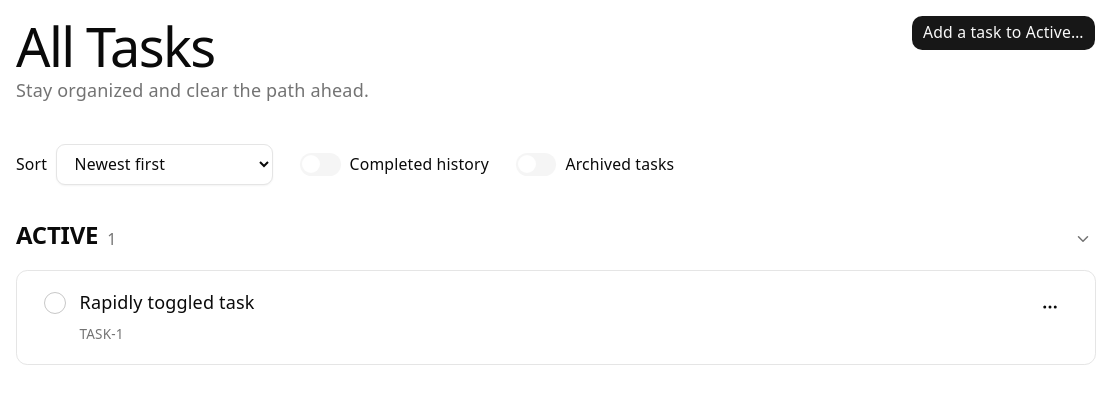
Scenario: TaskWorkspace › rapidReopenThenCompleteKeepsLatestCompletionInActive
Click the checkbox named "Complete TASK-1": (55, 303) [44,292,66,314]
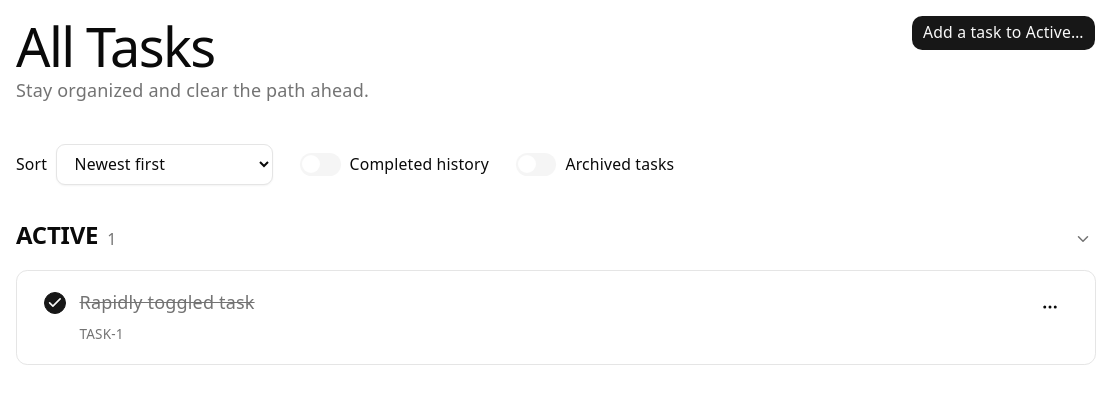
Expected: the text "Saving…" is not shown
Click the checkbox named "Reopen TASK-1": (55, 303) [44,292,66,314]
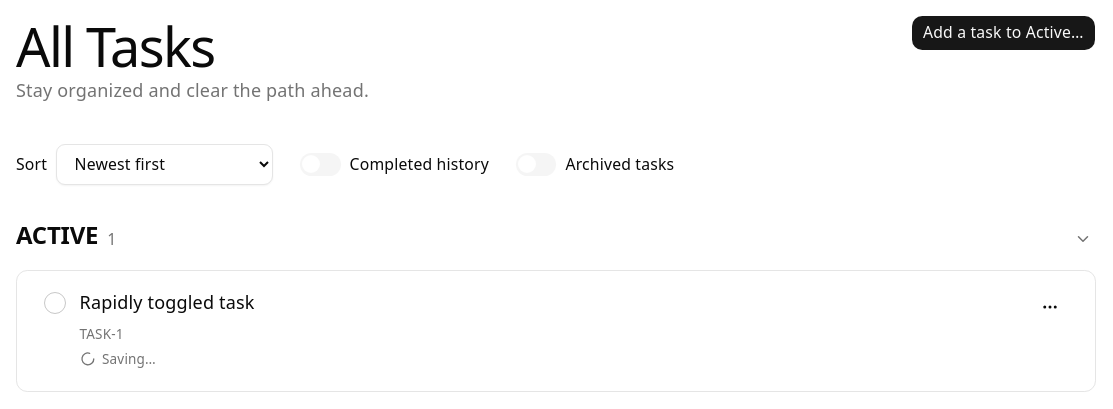
Click the checkbox named "Complete TASK-1": (55, 303) [44,292,66,314]
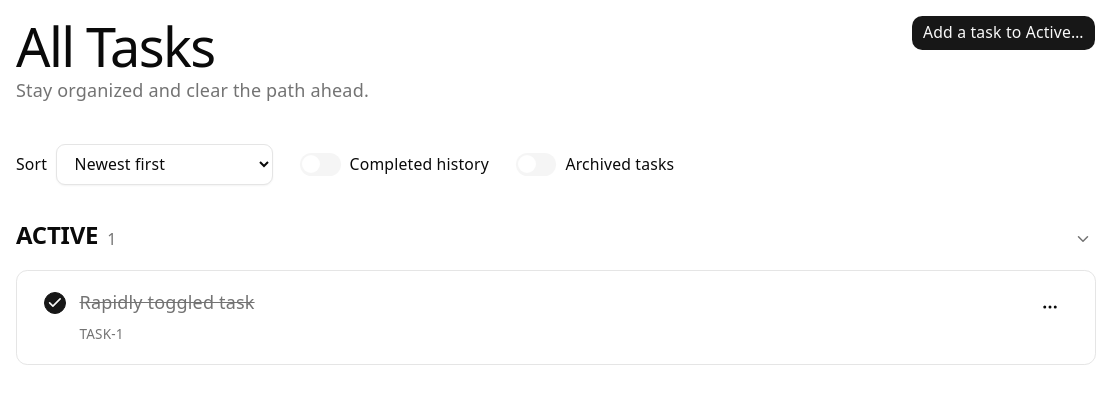
Now the text "Saving…" is gone
